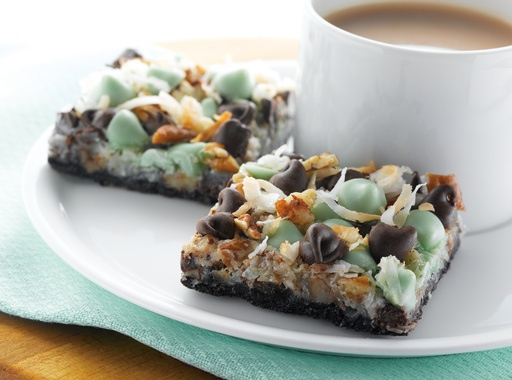background: (38, 28, 371, 200), (150, 0, 409, 30)
